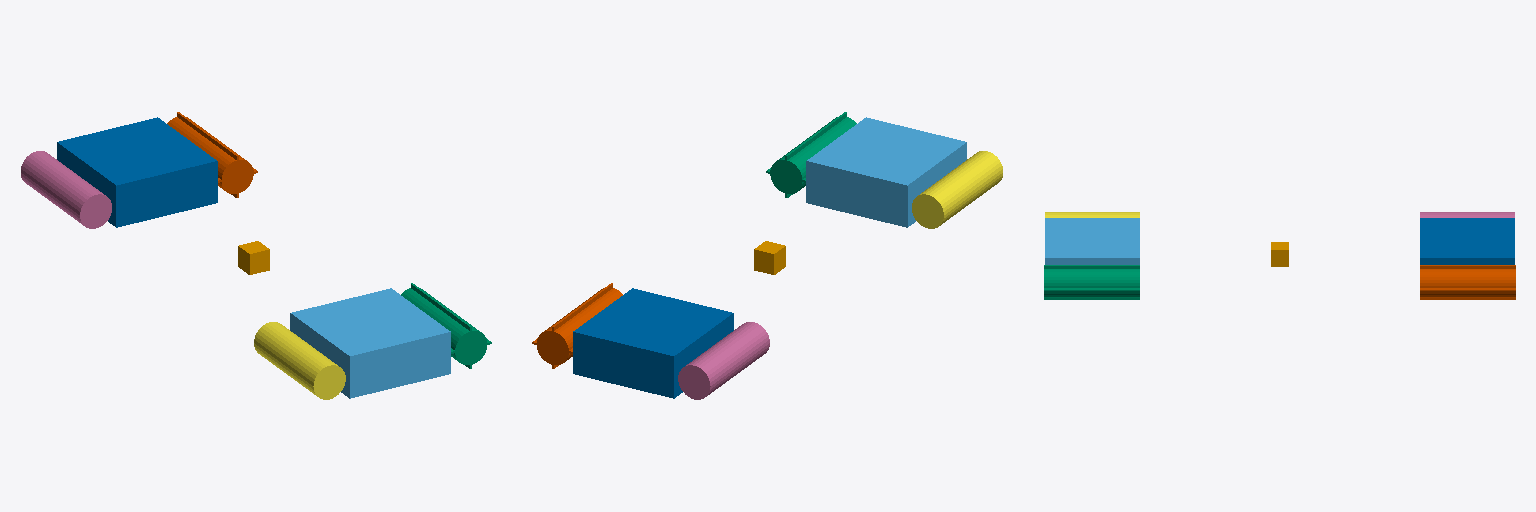
--- Render facts (derived) ---
Views: 3 orthographic renders of the robot side by side, from view 1: azimuth 30°, elevation 25°; view 2: azimuth 150°, elevation 25°; view 3: azimuth 270°, elevation 25°.
Robot: double_tracks — 7 links, 6 joints (2 continuous, 4 fixed); root link my_base_link; default pose: every joint at zero.
Visible links, largest first — view 1: right_body, left_body, left_idler, right_idler, left_sprocket, right_sprocket, my_base_link; view 2: left_body, right_body, right_idler, left_idler, right_sprocket, left_sprocket, my_base_link; view 3: left_body, right_body, left_sprocket, right_sprocket, left_idler, right_idler.
Boxes of the visible links, x1,y1,x2,y2 form: right_body: [57, 117, 217, 227]; left_body: [290, 288, 450, 398]; left_idler: [254, 322, 345, 399]; right_idler: [21, 151, 111, 228]; left_sprocket: [401, 283, 491, 368]; right_sprocket: [167, 112, 257, 197]; my_base_link: [238, 241, 269, 274]; left_body: [806, 117, 966, 227]; right_body: [573, 288, 733, 398]; right_idler: [678, 322, 769, 399]; left_idler: [912, 151, 1002, 228]; right_sprocket: [532, 283, 622, 368]; left_sprocket: [766, 112, 856, 197]; my_base_link: [754, 241, 785, 274]; left_body: [1045, 218, 1139, 264]; right_body: [1420, 218, 1514, 264]; left_sprocket: [1044, 265, 1139, 299]; right_sprocket: [1420, 265, 1515, 299]; left_idler: [1045, 212, 1139, 217]; right_idler: [1420, 212, 1514, 217].
Bounding box of the posed robot: 0.88 × 2.51 × 0.2 m (x, y, z).
Geometry: primitives only (box / cylinder / sphere), no mesh files.

URDF robot description (double_tracks):
<?xml version="1.0" encoding="utf-8"?>
<!-- =================================================================================== -->
<!-- |    This document was autogenerated by xacro from urdf_xacro/example_track_gazebo.urdf.xacro | -->
<!-- |    EDITING THIS FILE BY HAND IS NOT RECOMMENDED                                 | -->
<!-- =================================================================================== -->
<robot name="double_tracks">


  <link name="my_base_link">
    <visual>
      <geometry>
        <box size="0.1 0.1 0.1 "/>
      </geometry>
    </visual>
    <collision>
      <geometry>
        <box size="0.1 0.1 0.1 "/>
      </geometry>
    </collision>
  </link>
  <joint name="left_body_joint" type="fixed">
    <origin rpy="0 0 0" xyz="0 -1 0"/>
    <parent link="my_base_link"/>
    <child link="left_body"/>
  </joint>
  <joint name="right_body_joint" type="fixed">
    <origin rpy="0 0 0" xyz="0 1 0"/>
    <parent link="my_base_link"/>
    <child link="right_body"/>
  </joint>

  <link name="left_body">
    <inertial>
      <mass value="1"/>
      <inertia ixx="0.0250083333333" ixy="0" ixz="0" iyy="0.0241666666667" iyz="0" izz="0.0425083333333"/>
    </inertial>
    <visual>
      <geometry>
        <box size="0.5 0.51 0.2"/>
      </geometry>
    </visual>
    <collision>
      <geometry>
        <box size="0.51 0.5 0.2"/>
      </geometry>
    </collision>
  </link>
  <!-- sprocket driving the track : cylinder -->
  <link name="left_sprocket">
    <inertial>
      <mass value="0.2"/>
      <!-- assuming axis of cylinder is y, not z -->
      <inertia ixx="0.004655" ixy="0" ixz="0" iyy="0.00064" iyz="0" izz="0.004655"/>
    </inertial>
    <visual>
      <origin rpy="1.57079632679 0 0" xyz="0 0 0"/>
      <geometry>
        <cylinder length="0.51" radius="0.08"/>
      </geometry>
    </visual>
    <visual>
      <geometry>
        <box size="0.01 0.51 0.20"/>
      </geometry>
    </visual>
    <visual>
      <geometry>
        <box size="0.20 0.51 0.01"/>
      </geometry>
    </visual>
    <collision>
      <origin rpy="1.57079632679 0 0" xyz="0 0 0"/>
      <geometry>
        <cylinder length="0.51" radius="0.08"/>
      </geometry>
    </collision>
  </link>
  <joint name="left_sprocket_axle" type="continuous">
    <origin rpy="0 0 0" xyz="0.35 -0.001 0"/>
    <parent link="left_body"/>
    <child link="left_sprocket"/>
    <axis xyz="0 1 0"/>
  </joint>
  <!-- <transmission name="left_sprocket_transmission">
    <type>transmission_interface/SimpleTransmission</type>
    <joint name="left_sprocket_axle">
      <hardwareInterface>hardware_interface/VelocityJointInterface</hardwareInterface>
    </joint>
    <actuator name="left_sprocket_actuator">
      <mechanicalReduction>1</mechanicalReduction>
    </actuator>
  </transmission> -->
    <transmission name="left_sprocket_transmission" type="SimpleTransmission">
			<type>transmission_interface/SimpleTransmission</type>
			<actuator name="left_sprocket_actuator">
				<mechanicalReduction>1</mechanicalReduction>
			</actuator>
			<joint name="left_sprocket_axle">
				<hardwareInterface>hardware_interface/VelocityJointInterface</hardwareInterface>
			</joint>
  </transmission>
  <!-- idler on the other side of the sprocket: cylinder -->
  <link name="left_idler">
    <inertial>
      <mass value="0.2"/>
      <!-- assuming axis of cylinder is y, not z -->
      <inertia ixx="0.004655" ixy="0" ixz="0" iyy="0.00064" iyz="0" izz="0.004655"/>
    </inertial>
    <visual>
      <origin rpy="1.57079632679 0 0" xyz="0 0 0"/>
      <geometry>
        <cylinder length="0.51" radius="0.08"/>
      </geometry>
    </visual>
    <collision>
      <origin rpy="1.57079632679 0 0" xyz="0 0 0"/>
      <geometry>
        <cylinder length="0.51" radius="0.08"/>
      </geometry>
    </collision>
  </link>
  <joint name="left_idler_axle" type="fixed">
    <origin rpy="0 0 0" xyz="-0.35 0 0"/>
    <parent link="left_body"/>
    <child link="left_idler"/>
  </joint>
  <!-- -->
  <gazebo>
    <link name="left_track_straight_segment_link0">
      <pose>-0.35 -1 0.115 0 0 0</pose>
      <inertial>
        <pose>0.35 0 -0.0575 0 0 0</pose>
        <mass>0.1</mass>
        <inertia>
          <ixx>0.00219354166667</ixx>
          <ixy>0</ixy>
          <ixz>0</ixz>
          <iyy>0.00419354166667</iyy>
          <iyz>0</iyz>
          <izz>0.00616666666667</izz>
        </inertia>
      </inertial>
      <collision name="left_collision">
        <pose>0.35 0 -0.0575 0 0 0</pose>
        <geometry>
          <box>
            <size>0.7 0.5 0.115</size>
          </box>
        </geometry>
        <surface>
          <friction>
            <ode>
              <mu>0.5</mu>
              <mu2>0.5</mu2>
            </ode>
          </friction>
          <contact>
            <ode>
              <min_depth>0.01</min_depth>
            </ode>
          </contact>
        </surface>
      </collision>
      <visual name="left_visual">
        <pose>0.35 0 -0.0575 0 0 0</pose>
        <geometry>
          <box>
            <size>0.7 0.5 0.115</size>
          </box>
        </geometry>
        <material>
          <ambient>0.1 0.1 0.3 1</ambient>
          <diffuse>0.2 0.2 0.2 1</diffuse>
          <specular>0 0 0 1</specular>
          <emissive>0 0 0 1</emissive>
        </material>
      </visual>
    </link>
  </gazebo>
  <gazebo>
    <link name="left_track_straight_segment_link1">
      <pose>0.35 -1 -0.115 0 3.14159265359 0</pose>
      <inertial>
        <pose>0.35 0 -0.0575 0 0 0</pose>
        <mass>0.1</mass>
        <inertia>
          <ixx>0.00219354166667</ixx>
          <ixy>0</ixy>
          <ixz>0</ixz>
          <iyy>0.00419354166667</iyy>
          <iyz>0</iyz>
          <izz>0.00616666666667</izz>
        </inertia>
      </inertial>
      <collision name="left_collision">
        <pose>0.35 0 -0.0575 0 0 0</pose>
        <geometry>
          <box>
            <size>0.7 0.5 0.115</size>
          </box>
        </geometry>
        <surface>
          <friction>
            <ode>
              <mu>0.5</mu>
              <mu2>0.5</mu2>
            </ode>
          </friction>
          <contact>
            <ode>
              <min_depth>0.01</min_depth>
            </ode>
          </contact>
        </surface>
      </collision>
      <visual name="left_visual">
        <pose>0.35 0 -0.0575 0 0 0</pose>
        <geometry>
          <box>
            <size>0.7 0.5 0.115</size>
          </box>
        </geometry>
        <material>
          <ambient>0.1 0.1 0.3 1</ambient>
          <diffuse>0.2 0.2 0.2 1</diffuse>
          <specular>0 0 0 1</specular>
          <emissive>0 0 0 1</emissive>
        </material>
      </visual>
    </link>
  </gazebo>
  <gazebo>
    <joint name="left_track_straight_segment_joint0" type="prismatic">
      <child>left_track_straight_segment_link0</child>
      <parent>left_body</parent>
      <axis>
        <xyz>1 0 0</xyz>
        <use_parent_model_frame>0</use_parent_model_frame>
      </axis>
      <physics>
        <ode>
          <implicit_spring_damper>1</implicit_spring_damper>
        </ode>
      </physics>
    </joint>
  </gazebo>
  <gazebo>
    <joint name="left_track_straight_segment_joint1" type="prismatic">
      <child>left_track_straight_segment_link1</child>
      <parent>left_body</parent>
      <axis>
        <xyz>1 0 0</xyz>
        <use_parent_model_frame>0</use_parent_model_frame>
      </axis>
      <physics>
        <ode>
          <implicit_spring_damper>1</implicit_spring_damper>
        </ode>
      </physics>
    </joint>
  </gazebo>
  <gazebo>
    <link name="left_track_arc_segment_link0">
      <pose>0.35 -1 0.115 0 0 0</pose>
      <inertial>
        <pose>0 0 -0.115 1.57079632679 0 0</pose>
        <mass>0.1</mass>
        <inertia>
          <ixx>0.00241395833333</ixx>
          <ixy>0</ixy>
          <ixz>0</ixz>
          <iyy>0.00241395833333</iyy>
          <iyz>0</iyz>
          <izz>0.00066125</izz>
        </inertia>
      </inertial>
      <collision name="left_collision">
        <pose>0 0 -0.115 1.57079632679 0 0</pose>
        <geometry>
          <cylinder>
            <length>0.5</length>
            <radius>0.115</radius>
          </cylinder>
        </geometry>
        <surface>
          <friction>
            <ode>
              <mu>0.5</mu>
              <mu2>0.5</mu2>
            </ode>
          </friction>
          <contact>
            <ode>
              <min_depth>0.01</min_depth>
            </ode>
          </contact>
        </surface>
      </collision>
      <visual name="left_visual">
        <pose>0 0 -0.115 1.57079632679 0 0</pose>
        <geometry>
          <cylinder>
            <length>0.5</length>
            <radius>0.115</radius>
          </cylinder>
        </geometry>
        <material>
          <ambient>0.1 0.1 0.3 1</ambient>
          <diffuse>0.2 0.2 0.2 1</diffuse>
          <specular>0 0 0 1</specular>
          <emissive>0 0 0 1</emissive>
        </material>
      </visual>
    </link>
  </gazebo>
  <gazebo>
    <link name="left_track_arc_segment_link1">
      <pose>-0.35 -1 -0.115 0 3.14159265359 0</pose>
      <inertial>
        <pose>0 0 -0.115 1.57079632679 0 0</pose>
        <mass>0.1</mass>
        <inertia>
          <ixx>0.00241395833333</ixx>
          <ixy>0</ixy>
          <ixz>0</ixz>
          <iyy>0.00241395833333</iyy>
          <iyz>0</iyz>
          <izz>0.00066125</izz>
        </inertia>
      </inertial>
      <collision name="left_collision">
        <pose>0 0 -0.115 1.57079632679 0 0</pose>
        <geometry>
          <cylinder>
            <length>0.5</length>
            <radius>0.115</radius>
          </cylinder>
        </geometry>
        <surface>
          <friction>
            <ode>
              <mu>0.5</mu>
              <mu2>0.5</mu2>
            </ode>
          </friction>
          <contact>
            <ode>
              <min_depth>0.01</min_depth>
            </ode>
          </contact>
        </surface>
      </collision>
      <visual name="left_visual">
        <pose>0 0 -0.115 1.57079632679 0 0</pose>
        <geometry>
          <cylinder>
            <length>0.5</length>
            <radius>0.115</radius>
          </cylinder>
        </geometry>
        <material>
          <ambient>0.1 0.1 0.3 1</ambient>
          <diffuse>0.2 0.2 0.2 1</diffuse>
          <specular>0 0 0 1</specular>
          <emissive>0 0 0 1</emissive>
        </material>
      </visual>
    </link>
  </gazebo>
  <gazebo>
    <joint name="left_track_arc_segment_joint0" type="revolute">
      <child>left_track_arc_segment_link0</child>
      <parent>left_body</parent>
      <pose>0 0 -0.115 0 0 0</pose>
      <axis>
        <xyz>0 1 0</xyz>
        <use_parent_model_frame>0</use_parent_model_frame>
      </axis>
      <physics>
        <ode>
          <implicit_spring_damper>1</implicit_spring_damper>
        </ode>
      </physics>
    </joint>
  </gazebo>
  <gazebo>
    <joint name="left_track_arc_segment_joint1" type="revolute">
      <child>left_track_arc_segment_link1</child>
      <parent>left_body</parent>
      <pose>0 0 -0.115 0 0 0</pose>
      <axis>
        <xyz>0 1 0</xyz>
        <use_parent_model_frame>0</use_parent_model_frame>
      </axis>
      <physics>
        <ode>
          <implicit_spring_damper>1</implicit_spring_damper>
        </ode>
      </physics>
    </joint>
  </gazebo>
  <gazebo>
    <plugin filename="libContinuousTrack.so" name="left_track">
      <sprocket>
        <joint>left_sprocket_axle</joint>
        <pitch_diameter>0.24</pitch_diameter>
      </sprocket>
      <trajectory>
        <segment>
          <joint>left_track_straight_segment_joint0</joint>
          <end_position>0.7</end_position>
        </segment>
        <segment>
          <joint>left_track_arc_segment_joint0</joint>
          <end_position>3.14159265359</end_position>
        </segment>
        <segment>
          <joint>left_track_straight_segment_joint1</joint>
          <end_position>0.7</end_position>
        </segment>
        <segment>
          <joint>left_track_arc_segment_joint1</joint>
          <end_position>3.14159265359</end_position>
        </segment>
      </trajectory>
      <pattern>
        <elements_per_round>40</elements_per_round>
        <element>
          <collision name="left_collision">
            <pose>0 0 0 0 0 0</pose>
            <geometry>
              <box>
                <size>0.02 0.5 0.02</size>
              </box>
            </geometry>
            <surface>
              <friction>
                <ode>
                  <mu>0.5</mu>
                  <mu2>0.5</mu2>
                </ode>
              </friction>
              <contact>
                <ode>
                  <min_depth>0.01</min_depth>
                </ode>
              </contact>
            </surface>
          </collision>
          <visual name="left_visual">
            <pose>0 0 0 0 0 0</pose>
            <geometry>
              <box>
                <size>0.02 0.5 0.02</size>
              </box>
            </geometry>
            <material>
              <ambient>0.1 0.1 0.3 1</ambient>
              <diffuse>0.2 0.2 0.2 1</diffuse>
              <specular>0 0 0 1</specular>
              <emissive>0 0 0 1</emissive>
            </material>
          </visual>
        </element>
        <element>
          <collision name="left_collision">
            <pose>0 0.25 0 1.57079632679 0 0</pose>
            <geometry>
              <polyline>
                <point>-0.02 -0.01</point>
                <point>-0.01 0.01</point>
                <point>0.01 0.01</point>
                <point>0.02 -0.01</point>
                <height>0.5</height>
              </polyline>
            </geometry>
            <surface>
              <friction>
                <ode>
                  <mu>0.5</mu>
                  <mu2>0.5</mu2>
                </ode>
              </friction>
              <contact>
                <ode>
                  <min_depth>0.01</min_depth>
                </ode>
              </contact>
            </surface>
          </collision>
          <visual name="left_visual">
            <pose>0 0.25 0 1.57079632679 0 0</pose>
            <geometry>
              <polyline>
                <point>-0.02 -0.01</point>
                <point>-0.01 0.01</point>
                <point>0.01 0.01</point>
                <point>0.02 -0.01</point>
                <height>0.5</height>
              </polyline>
            </geometry>
            <material>
              <ambient>0.1 0.1 0.3 1</ambient>
              <diffuse>0.2 0.2 0.2 1</diffuse>
              <specular>0 0 0 1</specular>
              <emissive>0 0 0 1</emissive>
            </material>
          </visual>
        </element>
      </pattern>
    </plugin>
  </gazebo>

  <link name="right_body">
    <inertial>
      <mass value="1"/>
      <inertia ixx="0.0250083333333" ixy="0" ixz="0" iyy="0.0241666666667" iyz="0" izz="0.0425083333333"/>
    </inertial>
    <visual>
      <geometry>
        <box size="0.5 0.51 0.2"/>
      </geometry>
    </visual>
    <collision>
      <geometry>
        <box size="0.51 0.5 0.2"/>
      </geometry>
    </collision>
  </link>
  <!-- sprocket driving the track : cylinder -->
  <link name="right_sprocket">
    <inertial>
      <mass value="0.2"/>
      <!-- assuming axis of cylinder is y, not z -->
      <inertia ixx="0.004655" ixy="0" ixz="0" iyy="0.00064" iyz="0" izz="0.004655"/>
    </inertial>
    <visual>
      <origin rpy="1.57079632679 0 0" xyz="0 0 0"/>
      <geometry>
        <cylinder length="0.51" radius="0.08"/>
      </geometry>
    </visual>
    <visual>
      <geometry>
        <box size="0.01 0.51 0.20"/>
      </geometry>
    </visual>
    <visual>
      <geometry>
        <box size="0.20 0.51 0.01"/>
      </geometry>
    </visual>
    <collision>
      <origin rpy="1.57079632679 0 0" xyz="0 0 0"/>
      <geometry>
        <cylinder length="0.51" radius="0.08"/>
      </geometry>
    </collision>
  </link>
  <joint name="right_sprocket_axle" type="continuous">
    <origin rpy="0 0 0" xyz="0.35 0.001 0"/>
    <parent link="right_body"/>
    <child link="right_sprocket"/>
    <axis xyz="0 1 0"/>
  </joint>
  <!-- <transmission name="right_sprocket_transmission">
    <type>transmission_interface/SimpleTransmission</type>
    <actuator name="right_sprocket_actuator">
      <mechanicalReduction>1</mechanicalReduction>
    </actuator>
    <joint name="right_sprocket_axle">
      <hardwareInterface>hardware_interface/VelocityJointInterface</hardwareInterface>
    </joint>
  </transmission> -->
  <transmission name="right_sprocket_transmission" type="SimpleTransmission">
    <type>transmission_interface/SimpleTransmission</type>
    <actuator name="right_sprocket_actuator">
        <mechanicalReduction>1</mechanicalReduction>
    </actuator>
    <joint name="right_sprocket_axle">
        <hardwareInterface>hardware_interface/VelocityJointInterface</hardwareInterface>
    </joint>
  </transmission>

  <!-- idler on the other side of the sprocket: cylinder -->
  <link name="right_idler">
    <inertial>
      <mass value="0.2"/>
      <!-- assuming axis of cylinder is y, not z -->
      <inertia ixx="0.004655" ixy="0" ixz="0" iyy="0.00064" iyz="0" izz="0.004655"/>
    </inertial>
    <visual>
      <origin rpy="1.57079632679 0 0" xyz="0 0 0"/>
      <geometry>
        <cylinder length="0.51" radius="0.08"/>
      </geometry>
    </visual>
    <collision>
      <origin rpy="1.57079632679 0 0" xyz="0 0 0"/>
      <geometry>
        <cylinder length="0.51" radius="0.08"/>
      </geometry>
    </collision>
  </link>
  <joint name="right_idler_axle" type="fixed">
    <origin rpy="0 0 0" xyz="-0.35 0 0"/>
    <parent link="right_body"/>
    <child link="right_idler"/>
  </joint>
  <!-- -->
  <gazebo>
    <link name="right_track_straight_segment_link0">
      <pose>-0.35 1 0.115 0 0 0</pose>
      <inertial>
        <pose>0.35 0 -0.0575 0 0 0</pose>
        <mass>0.1</mass>
        <inertia>
          <ixx>0.00219354166667</ixx>
          <ixy>0</ixy>
          <ixz>0</ixz>
          <iyy>0.00419354166667</iyy>
          <iyz>0</iyz>
          <izz>0.00616666666667</izz>
        </inertia>
      </inertial>
      <collision name="right_collision">
        <pose>0.35 0 -0.0575 0 0 0</pose>
        <geometry>
          <box>
            <size>0.7 0.5 0.115</size>
          </box>
        </geometry>
        <surface>
          <friction>
            <ode>
              <mu>0.5</mu>
              <mu2>0.5</mu2>
            </ode>
          </friction>
          <contact>
            <ode>
              <min_depth>0.01</min_depth>
            </ode>
          </contact>
        </surface>
      </collision>
      <visual name="right_visual">
        <pose>0.35 0 -0.0575 0 0 0</pose>
        <geometry>
          <box>
            <size>0.7 0.5 0.115</size>
          </box>
        </geometry>
        <material>
          <ambient>0.1 0.1 0.3 1</ambient>
          <diffuse>0.2 0.2 0.2 1</diffuse>
          <specular>0 0 0 1</specular>
          <emissive>0 0 0 1</emissive>
        </material>
      </visual>
    </link>
  </gazebo>
  <gazebo>
    <link name="right_track_straight_segment_link1">
      <pose>0.35 1 -0.115 0 3.14159265359 0</pose>
      <inertial>
        <pose>0.35 0 -0.0575 0 0 0</pose>
        <mass>0.1</mass>
        <inertia>
          <ixx>0.00219354166667</ixx>
          <ixy>0</ixy>
          <ixz>0</ixz>
          <iyy>0.00419354166667</iyy>
          <iyz>0</iyz>
          <izz>0.00616666666667</izz>
        </inertia>
      </inertial>
      <collision name="right_collision">
        <pose>0.35 0 -0.0575 0 0 0</pose>
        <geometry>
          <box>
            <size>0.7 0.5 0.115</size>
          </box>
        </geometry>
        <surface>
          <friction>
            <ode>
              <mu>0.5</mu>
              <mu2>0.5</mu2>
            </ode>
          </friction>
          <contact>
            <ode>
              <min_depth>0.01</min_depth>
            </ode>
          </contact>
        </surface>
      </collision>
      <visual name="right_visual">
        <pose>0.35 0 -0.0575 0 0 0</pose>
        <geometry>
          <box>
            <size>0.7 0.5 0.115</size>
          </box>
        </geometry>
        <material>
          <ambient>0.1 0.1 0.3 1</ambient>
          <diffuse>0.2 0.2 0.2 1</diffuse>
          <specular>0 0 0 1</specular>
          <emissive>0 0 0 1</emissive>
        </material>
      </visual>
    </link>
  </gazebo>
  <gazebo>
    <joint name="right_track_straight_segment_joint0" type="prismatic">
      <child>right_track_straight_segment_link0</child>
      <parent>right_body</parent>
      <axis>
        <xyz>1 0 0</xyz>
        <use_parent_model_frame>0</use_parent_model_frame>
      </axis>
      <physics>
        <ode>
          <implicit_spring_damper>1</implicit_spring_damper>
        </ode>
      </physics>
    </joint>
  </gazebo>
  <gazebo>
    <joint name="right_track_straight_segment_joint1" type="prismatic">
      <child>right_track_straight_segment_link1</child>
      <parent>right_body</parent>
      <axis>
        <xyz>1 0 0</xyz>
        <use_parent_model_frame>0</use_parent_model_frame>
      </axis>
      <physics>
        <ode>
          <implicit_spring_damper>1</implicit_spring_damper>
        </ode>
      </physics>
    </joint>
  </gazebo>
  <gazebo>
    <link name="right_track_arc_segment_link0">
      <pose>0.35 1 0.115 0 0 0</pose>
      <inertial>
        <pose>0 0 -0.115 1.57079632679 0 0</pose>
        <mass>0.1</mass>
        <inertia>
          <ixx>0.00241395833333</ixx>
          <ixy>0</ixy>
          <ixz>0</ixz>
          <iyy>0.00241395833333</iyy>
          <iyz>0</iyz>
          <izz>0.00066125</izz>
        </inertia>
      </inertial>
      <collision name="right_collision">
        <pose>0 0 -0.115 1.57079632679 0 0</pose>
        <geometry>
          <cylinder>
            <length>0.5</length>
            <radius>0.115</radius>
          </cylinder>
        </geometry>
        <surface>
          <friction>
            <ode>
              <mu>0.5</mu>
              <mu2>0.5</mu2>
            </ode>
          </friction>
          <contact>
            <ode>
              <min_depth>0.01</min_depth>
            </ode>
          </contact>
        </surface>
      </collision>
      <visual name="right_visual">
        <pose>0 0 -0.115 1.57079632679 0 0</pose>
        <geometry>
          <cylinder>
            <length>0.5</length>
            <radius>0.115</radius>
          </cylinder>
        </geometry>
        <material>
          <ambient>0.1 0.1 0.3 1</ambient>
          <diffuse>0.2 0.2 0.2 1</diffuse>
          <specular>0 0 0 1</specular>
          <emissive>0 0 0 1</emissive>
        </material>
      </visual>
    </link>
  </gazebo>
  <gazebo>
    <link name="right_track_arc_segment_link1">
      <pose>-0.35 1 -0.115 0 3.14159265359 0</pose>
      <inertial>
        <pose>0 0 -0.115 1.57079632679 0 0</pose>
        <mass>0.1</mass>
        <inertia>
          <ixx>0.00241395833333</ixx>
          <ixy>0</ixy>
          <ixz>0</ixz>
          <iyy>0.00241395833333</iyy>
          <iyz>0</iyz>
          <izz>0.00066125</izz>
        </inertia>
      </inertial>
      <collision name="right_collision">
        <pose>0 0 -0.115 1.57079632679 0 0</pose>
        <geometry>
          <cylinder>
            <length>0.5</length>
            <radius>0.115</radius>
          </cylinder>
        </geometry>
        <surface>
          <friction>
            <ode>
              <mu>0.5</mu>
              <mu2>0.5</mu2>
            </ode>
          </friction>
          <contact>
            <ode>
              <min_depth>0.01</min_depth>
            </ode>
          </contact>
        </surface>
      </collision>
      <visual name="right_visual">
        <pose>0 0 -0.115 1.57079632679 0 0</pose>
        <geometry>
          <cylinder>
            <length>0.5</length>
            <radius>0.115</radius>
          </cylinder>
        </geometry>
        <material>
          <ambient>0.1 0.1 0.3 1</ambient>
          <diffuse>0.2 0.2 0.2 1</diffuse>
          <specular>0 0 0 1</specular>
          <emissive>0 0 0 1</emissive>
        </material>
      </visual>
    </link>
  </gazebo>
  <gazebo>
    <joint name="right_track_arc_segment_joint0" type="revolute">
      <child>right_track_arc_segment_link0</child>
      <parent>right_body</parent>
      <pose>0 0 -0.115 0 0 0</pose>
      <axis>
        <xyz>0 1 0</xyz>
        <use_parent_model_frame>0</use_parent_model_frame>
      </axis>
      <physics>
        <ode>
          <implicit_spring_damper>1</implicit_spring_damper>
        </ode>
      </physics>
    </joint>
  </gazebo>
  <gazebo>
    <joint name="right_track_arc_segment_joint1" type="revolute">
      <child>right_track_arc_segment_link1</child>
      <parent>right_body</parent>
      <pose>0 0 -0.115 0 0 0</pose>
      <axis>
        <xyz>0 1 0</xyz>
        <use_parent_model_frame>0</use_parent_model_frame>
      </axis>
      <physics>
        <ode>
          <implicit_spring_damper>1</implicit_spring_damper>
        </ode>
      </physics>
    </joint>
  </gazebo>
  <gazebo>
    <plugin filename="libContinuousTrack.so" name="right_track">
      <sprocket>
        <joint>right_sprocket_axle</joint>
        <pitch_diameter>0.24</pitch_diameter>
      </sprocket>
      <trajectory>
        <segment>
          <joint>right_track_straight_segment_joint0</joint>
          <end_position>0.7</end_position>
        </segment>
        <segment>
          <joint>right_track_arc_segment_joint0</joint>
          <end_position>3.14159265359</end_position>
        </segment>
        <segment>
          <joint>right_track_straight_segment_joint1</joint>
          <end_position>0.7</end_position>
        </segment>
        <segment>
          <joint>right_track_arc_segment_joint1</joint>
          <end_position>3.14159265359</end_position>
        </segment>
      </trajectory>
      <pattern>
        <elements_per_round>40</elements_per_round>
        <element>
          <collision name="right_collision">
            <pose>0 0 0 0 0 0</pose>
            <geometry>
              <box>
                <size>0.02 0.5 0.02</size>
              </box>
            </geometry>
            <surface>
              <friction>
                <ode>
                  <mu>0.5</mu>
                  <mu2>0.5</mu2>
                </ode>
              </friction>
              <contact>
                <ode>
                  <min_depth>0.01</min_depth>
                </ode>
              </contact>
            </surface>
          </collision>
          <visual name="right_visual">
            <pose>0 0 0 0 0 0</pose>
            <geometry>
              <box>
                <size>0.02 0.5 0.02</size>
              </box>
            </geometry>
            <material>
              <ambient>0.1 0.1 0.3 1</ambient>
              <diffuse>0.2 0.2 0.2 1</diffuse>
              <specular>0 0 0 1</specular>
              <emissive>0 0 0 1</emissive>
            </material>
          </visual>
        </element>
        <element>
          <collision name="right_collision">
            <pose>0 0.25 0 1.57079632679 0 0</pose>
            <geometry>
              <polyline>
                <point>-0.02 -0.01</point>
                <point>-0.01 0.01</point>
                <point>0.01 0.01</point>
                <point>0.02 -0.01</point>
                <height>0.5</height>
              </polyline>
            </geometry>
            <surface>
              <friction>
                <ode>
                  <mu>0.5</mu>
                  <mu2>0.5</mu2>
                </ode>
              </friction>
              <contact>
                <ode>
                  <min_depth>0.01</min_depth>
                </ode>
              </contact>
            </surface>
          </collision>
          <visual name="right_visual">
            <pose>0 0.25 0 1.57079632679 0 0</pose>
            <geometry>
              <polyline>
                <point>-0.02 -0.01</point>
                <point>-0.01 0.01</point>
                <point>0.01 0.01</point>
                <point>0.02 -0.01</point>
                <height>0.5</height>
              </polyline>
            </geometry>
            <material>
              <ambient>0.1 0.1 0.3 1</ambient>
              <diffuse>0.2 0.2 0.2 1</diffuse>
              <specular>0 0 0 1</specular>
              <emissive>0 0 0 1</emissive>
            </material>
          </visual>
        </element>
      </pattern>
    </plugin>
  </gazebo>

  <!-- ros_control for gazebo -->
  <gazebo>
    <plugin filename="libgazebo_ros_control.so" name="gazebo_ros_control">
      <robotSimType>gazebo_ros_control/DefaultRobotHWSim</robotSimType>
      <legacyModeNS>true</legacyModeNS>
    </plugin>
  </gazebo>
  
</robot>
